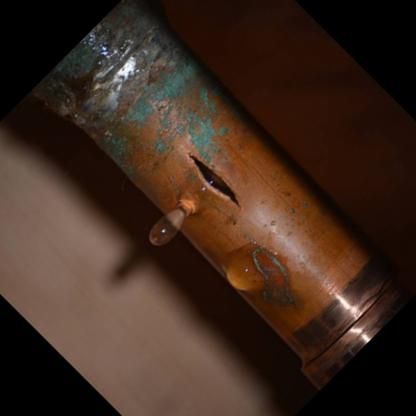burst: (180, 134, 252, 230)
